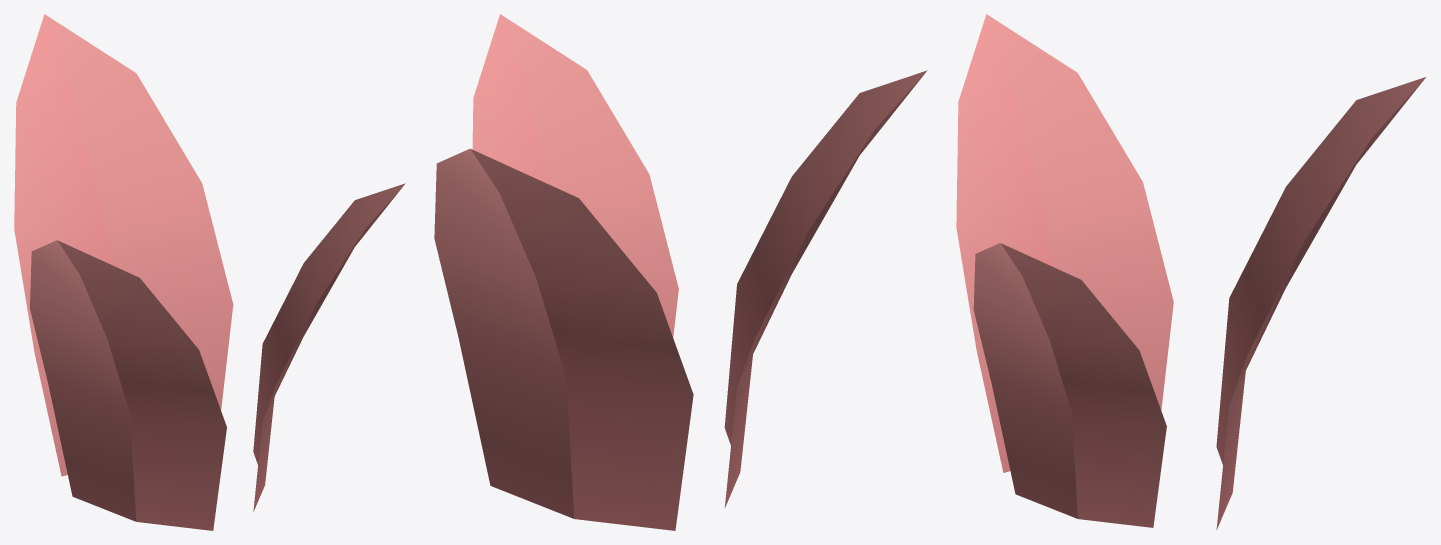
File: Grass_1_B_Singlesided_Color8.fbx
3 views of the same model, side by side, from view 1: azimuth 30°, elevation 25°; view 2: azimuth 150°, elevation 25°; view 3: azimuth 270°, elevation 25° (orthographic). The views are drawn at different scales.
Visible parts, largest first — view 1: Grass_1_B_Singlesided_Color8; view 2: Grass_1_B_Singlesided_Color8; view 3: Grass_1_B_Singlesided_Color8.
Boxes of the visible parts, x1,y1,x2,y2 form: Grass_1_B_Singlesided_Color8: (14, 14, 405, 530); Grass_1_B_Singlesided_Color8: (434, 14, 927, 530); Grass_1_B_Singlesided_Color8: (956, 14, 1425, 529).
Size of the model in its own units: 0.512 by 0.5202 by 0.5327.
